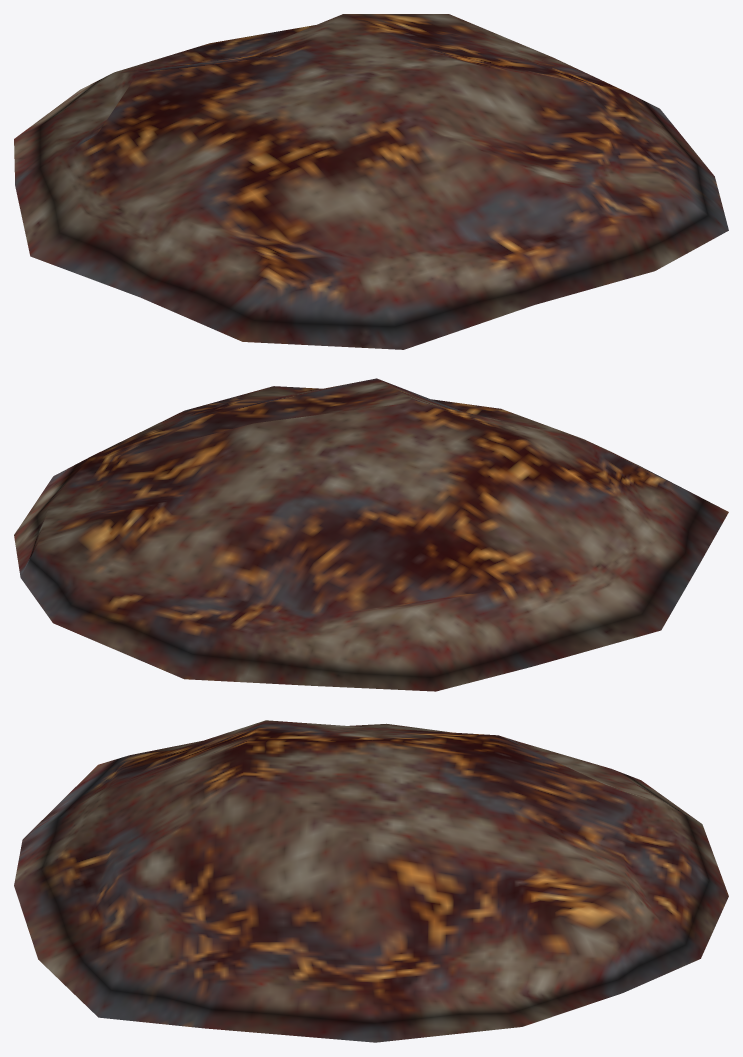
Rendered from GarbageFood.glb.
The picture shows the model from 3 angles, top to bottom: view 1: azimuth 30°, elevation 25°; view 2: azimuth 150°, elevation 25°; view 3: azimuth 270°, elevation 25°; orthographic projection. The views are drawn at different scales.
Visible parts, largest first — view 1: GarbageFood; view 2: GarbageFood; view 3: GarbageFood.
Part boxes in pixels (x1=…): GarbageFood: x1=14, y1=14, x2=728, y2=349; GarbageFood: x1=14, y1=378, x2=728, y2=691; GarbageFood: x1=14, y1=720, x2=728, y2=1042.
Size of the model in its own units: 0.3905 by 0.0709 by 0.3756.
Materials: 1 (1 with a texture image).
